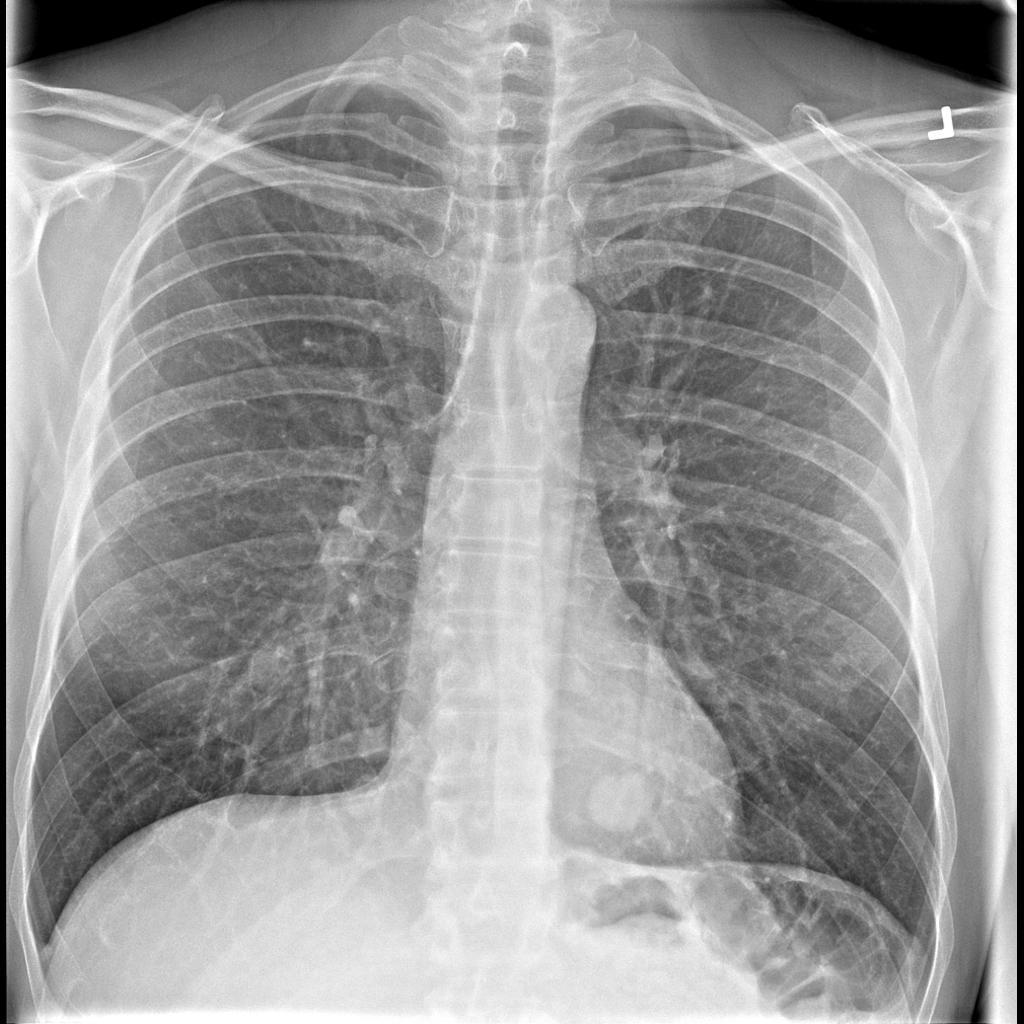Nodule: (586, 761, 662, 841), (239, 631, 309, 708)
